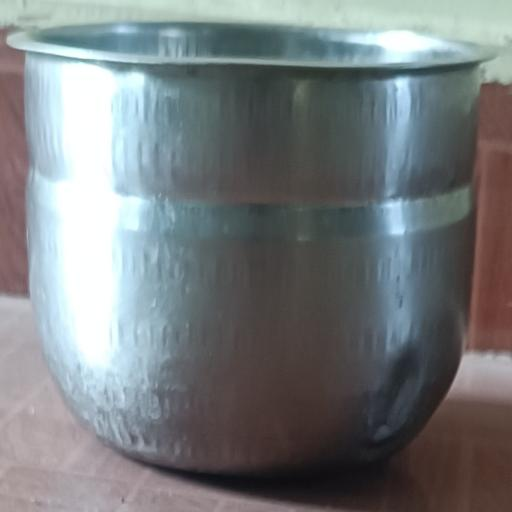vessel: (10, 23, 489, 472)
